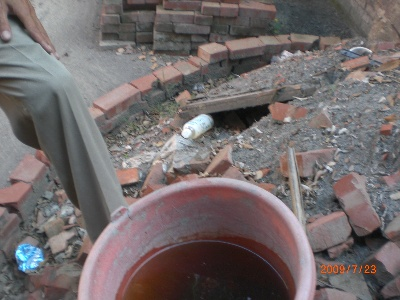bottle: (178, 113, 215, 141)
bucket: (75, 177, 319, 300)
